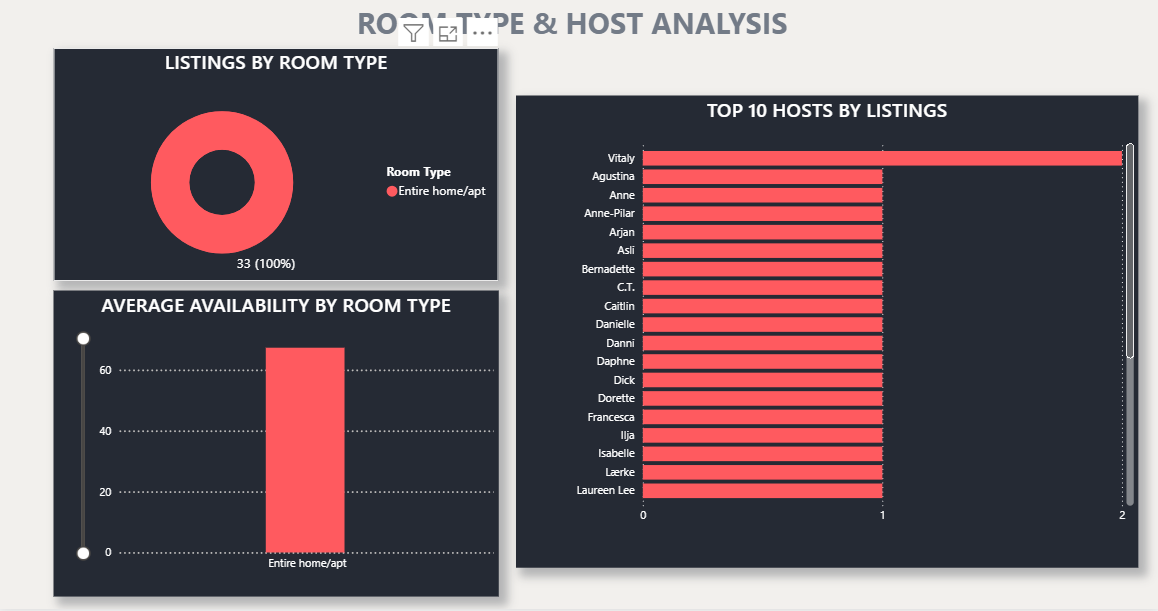

The page's visual inventory and layout, read from the dashboard file:
{"tool":"powerbi","page":{"name":"Page 3","canvas":[1280,720],"ordinal":2},"visuals":[{"type":"textbox","box":[11,49.4,1243.2,54.9],"z":0},{"type":"donutChart","title":"LISTINGS BY ROOM TYPE","fields":{"Category":["Airbnb_Data.room_type"],"Y":["CountNonNull(Airbnb_Data.id)"]},"box":[63.1,104.3,488.5,255.2],"z":1000},{"type":"clusteredBarChart","title":"TOP 10 HOSTS BY LISTINGS","fields":{"Category":["Airbnb_Data.host_name"],"Y":["CountNonNull(Airbnb_Data.id)"]},"box":[570.8,156.4,683.4,518.7],"z":2000},{"type":"clusteredColumnChart","title":"AVERAGE AVAILABILITY BY ROOM TYPE","fields":{"Category":["Airbnb_Data.room_type"],"Y":["Avg(Airbnb_Data.availability_365)"]},"box":[63.1,370.5,488.5,336.2],"z":3000}]}

Visuals, with their boxes on the page's 1280x720 design canvas (x1, y1, x2, y2). These are canvas units, not pixel positions in the 1158x611 screenshot, which may show the page scaled, cropped or inside an application window:
textbox: {"left": 11, "top": 49, "right": 1254, "bottom": 104}
"LISTINGS BY ROOM TYPE" donutChart: {"left": 63, "top": 104, "right": 552, "bottom": 360}
"TOP 10 HOSTS BY LISTINGS" clusteredBarChart: {"left": 571, "top": 156, "right": 1254, "bottom": 675}
"AVERAGE AVAILABILITY BY ROOM TYPE" clusteredColumnChart: {"left": 63, "top": 370, "right": 552, "bottom": 707}
